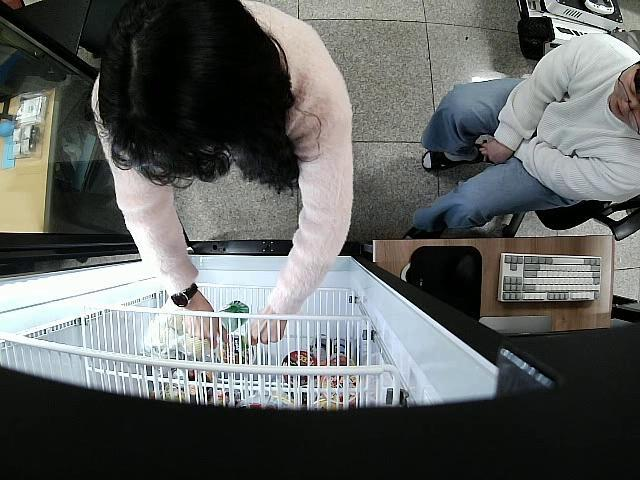18_trevi: (218, 300, 250, 332)
